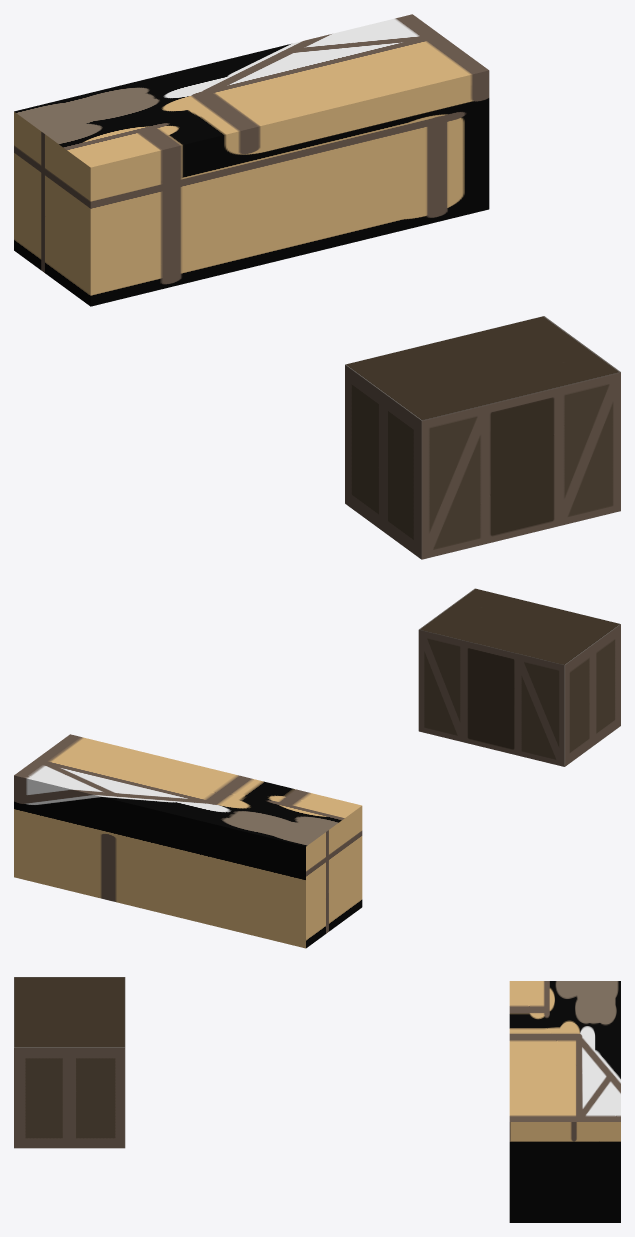
File: Storage.fbx
The picture shows the model from 3 angles, top to bottom: view 1: azimuth 30°, elevation 25°; view 2: azimuth 150°, elevation 25°; view 3: azimuth 270°, elevation 25°; orthographic projection. The views are drawn at different scales.
Visible parts, largest first — view 1: Market, pCube12; view 2: Market, pCube12; view 3: Market, pCube12.
Boxes of the visible parts, box(x1,y1,x2,y2) form: Market: box(14, 14, 489, 306); pCube12: box(345, 316, 620, 559); Market: box(14, 734, 362, 948); pCube12: box(418, 588, 620, 766); Market: box(509, 981, 620, 1222); pCube12: box(14, 977, 125, 1148).
Size of the model in its own units: 3.08 by 1 by 5.46.
Materials: 2 (2 with a texture image).
